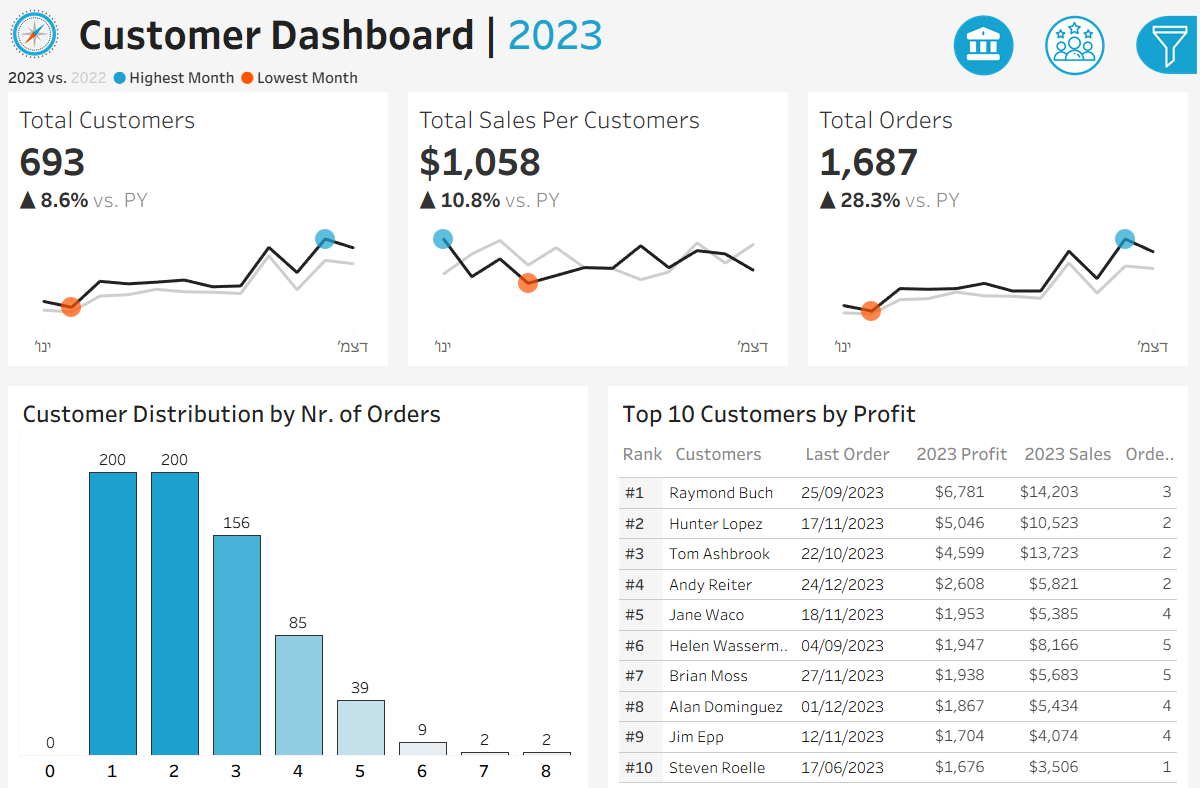

The dashboard page shown, as its layout file describes it:
{"tool":"tableau","page":{"name":"Customer Dashboard","canvas":[1200,800],"ordinal":0},"visuals":[{"type":"image","param":"Image/Icon - Logo.png","box":[0,0,73,59]},{"type":"text","box":[73,0,820,59]},{"type":"dashboard-object","box":[940,6,91,70]},{"type":"dashboard-object","box":[1031,6,91,70]},{"type":"blank","box":[952,10,237,86]},{"type":"worksheet","title":"Legend KPI","mark":"Automatic","box":[0,59,1200,29]},{"type":"worksheet","title":"KPI Customers","mark":"Automatic","rows":["Min/Max Quantity (copy)_3221481164588691468"],"cols":["Order Date"],"box":[0,88,400,284]},{"type":"worksheet","title":"KPI Sales Per Customers","mark":"Automatic","rows":["Min/Max Quantity (copy)_3221481164537155591"],"cols":["Order Date"],"box":[400,88,400,284]},{"type":"worksheet","title":"KPI Orders","mark":"Automatic","rows":["Min/Max Sales (copy)_3221481164601258003"],"cols":["Order Date"],"box":[800,88,400,284]},{"type":"text","box":[952,96,237,37]},{"type":"parameter","param":"[Parameters].[Parameter 1]","box":[952,133,237,55]},{"type":"text","box":[952,188,237,32]},{"type":"filter","title":"KPI Customers","param":"[federated.1kpxa041aiai2y1cl4pui1t4eju9].[none:Category:nk]","box":[952,220,237,57]},{"type":"filter","title":"KPI Customers","param":"[federated.1kpxa041aiai2y1cl4pui1t4eju9].[none:Sub-Category:nk]","box":[952,277,237,57]},{"type":"blank","box":[952,334,237,60]},{"type":"text","box":[17,389,566,40]},{"type":"text","box":[617,389,566,40]},{"type":"text","box":[952,394,237,32]},{"type":"filter","title":"KPI Customers","param":"[federated.1kpxa041aiai2y1cl4pui1t4eju9].[none:Region:nk]","box":[952,426,237,57]},{"type":"worksheet","title":"Customer Distribution","mark":"Bar","rows":["CY Sales (copy)_3221481164532666369"],"cols":["Calculation_998110323739992064"],"box":[17,429,566,354]},{"type":"text","box":[617,429,53,40]},{"type":"text","box":[670,429,130,40]},{"type":"text","box":[800,429,111,40]},{"type":"text","box":[911,429,108,40]},{"type":"text","box":[1019,429,101,40]},{"type":"text","box":[1120,429,63,40]},{"type":"worksheet","title":"Top Customers","mark":"Automatic","rows":["Calculation_782500491678904334","Customer Name","Order Date"],"box":[617,469,566,314]},{"type":"filter","title":"KPI Customers","param":"[federated.1kpxa041aiai2y1cl4pui1t4eju9].[none:State:nk]","box":[952,483,237,57]},{"type":"filter","title":"KPI Customers","param":"[federated.1kpxa041aiai2y1cl4pui1t4eju9].[none:City:nk]","box":[952,540,237,57]}]}

Visuals, with their boxes in screenshot pixels (x1, y1, x2, y2), scaled from the page's 1200x800 canvas onto the 1200x788 screenshot:
image: region(0, 0, 73, 58)
text: region(73, 0, 893, 58)
dashboard-object: region(940, 6, 1031, 75)
dashboard-object: region(1031, 6, 1122, 75)
blank: region(952, 10, 1189, 95)
"Legend KPI" worksheet: region(0, 58, 1199, 87)
"KPI Customers" worksheet: region(0, 87, 400, 366)
"KPI Sales Per Customers" worksheet: region(400, 87, 800, 366)
"KPI Orders" worksheet: region(800, 87, 1199, 366)
text: region(952, 95, 1189, 131)
parameter: region(952, 131, 1189, 185)
text: region(952, 185, 1189, 217)
"KPI Customers" filter: region(952, 217, 1189, 273)
"KPI Customers" filter: region(952, 273, 1189, 329)
blank: region(952, 329, 1189, 388)
text: region(17, 383, 583, 423)
text: region(617, 383, 1183, 423)
text: region(952, 388, 1189, 420)
"KPI Customers" filter: region(952, 420, 1189, 476)
"Customer Distribution" worksheet (Bar marks): region(17, 423, 583, 771)
text: region(617, 423, 670, 462)
text: region(670, 423, 800, 462)
text: region(800, 423, 911, 462)
text: region(911, 423, 1019, 462)
text: region(1019, 423, 1120, 462)
text: region(1120, 423, 1183, 462)
"Top Customers" worksheet: region(617, 462, 1183, 771)
"KPI Customers" filter: region(952, 476, 1189, 532)
"KPI Customers" filter: region(952, 532, 1189, 588)
